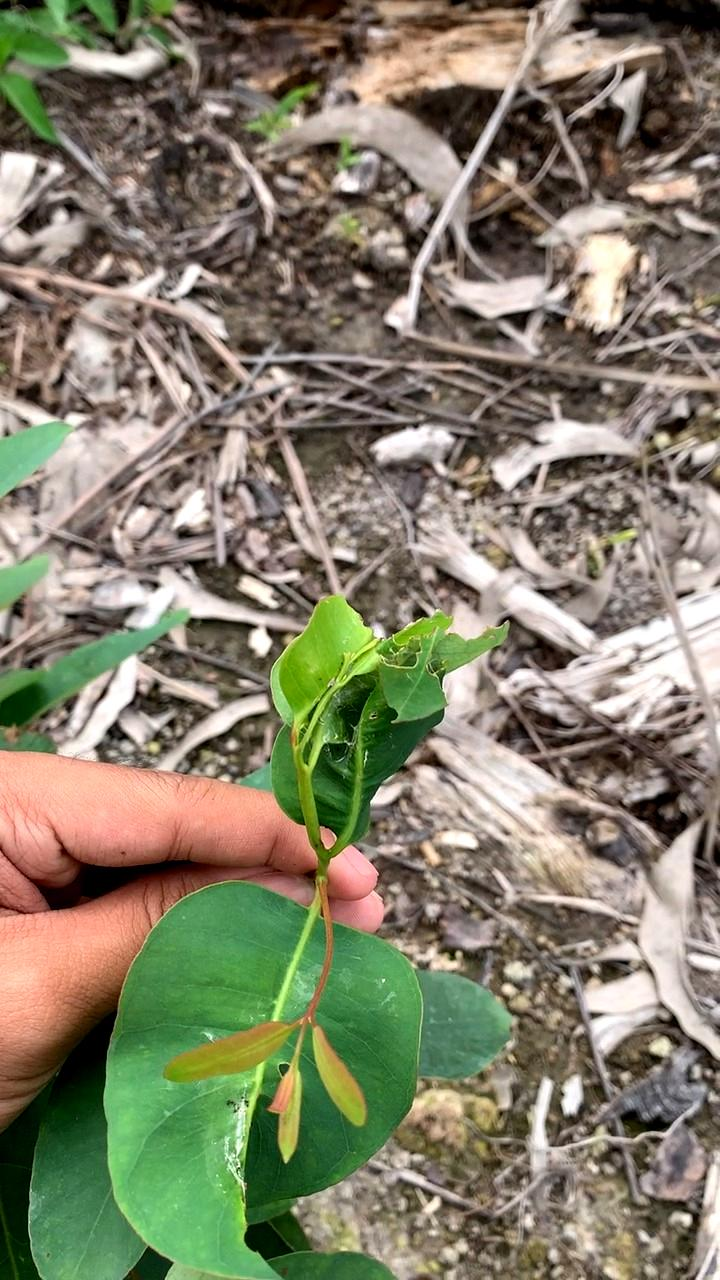Leaf Roller - Leaf: (248, 591, 505, 837)
